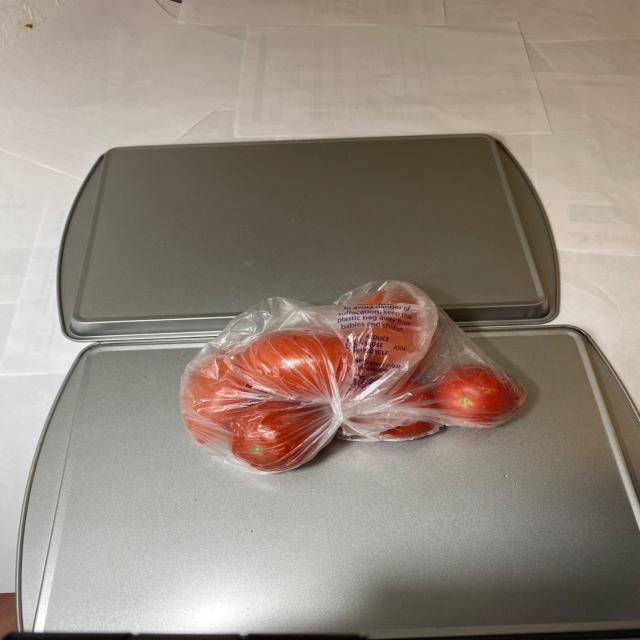tomato: (177, 284, 525, 471)
